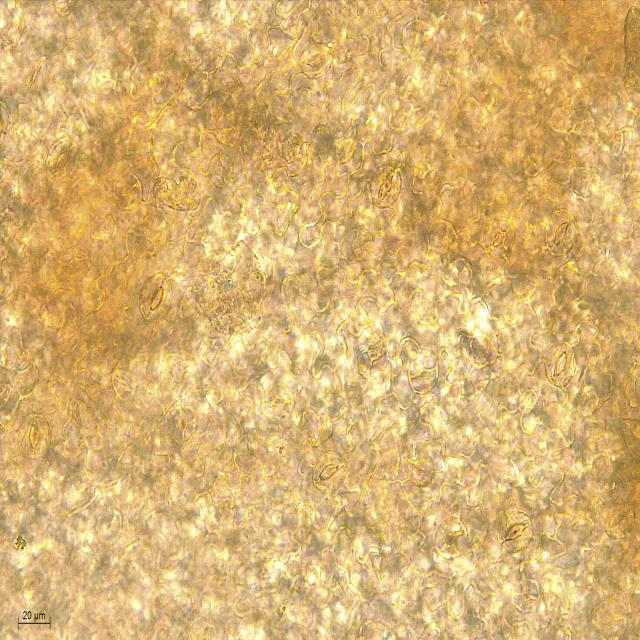Stomata: (136, 270, 176, 328), (310, 448, 352, 496), (495, 509, 536, 558), (14, 411, 54, 461), (543, 206, 579, 260), (433, 514, 472, 563), (367, 161, 404, 211), (543, 339, 578, 389), (44, 135, 80, 183), (407, 349, 441, 396), (480, 216, 516, 260), (296, 41, 336, 80), (110, 170, 146, 212), (602, 499, 638, 541), (166, 403, 200, 447), (403, 448, 437, 489), (58, 243, 92, 283), (509, 576, 544, 614), (564, 108, 597, 145), (207, 150, 236, 190)
